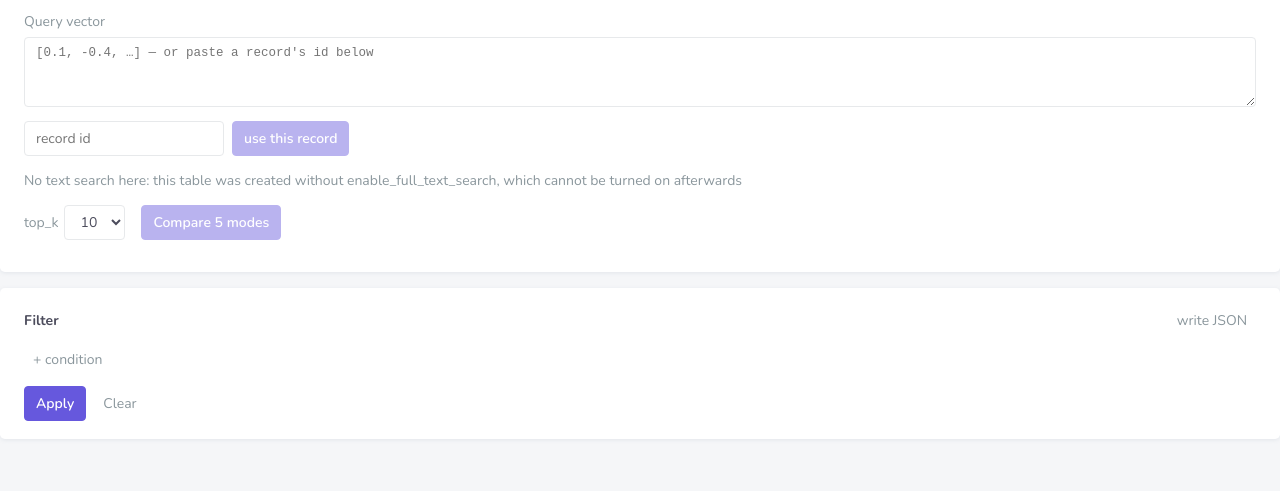
the search inspector › warns about a wrong-length vector but still lets it be sent
The width and height of the screenshot is (1280, 491).
Click the text box labelled "Query vector" at (640, 72), box [24,37,1256,107]
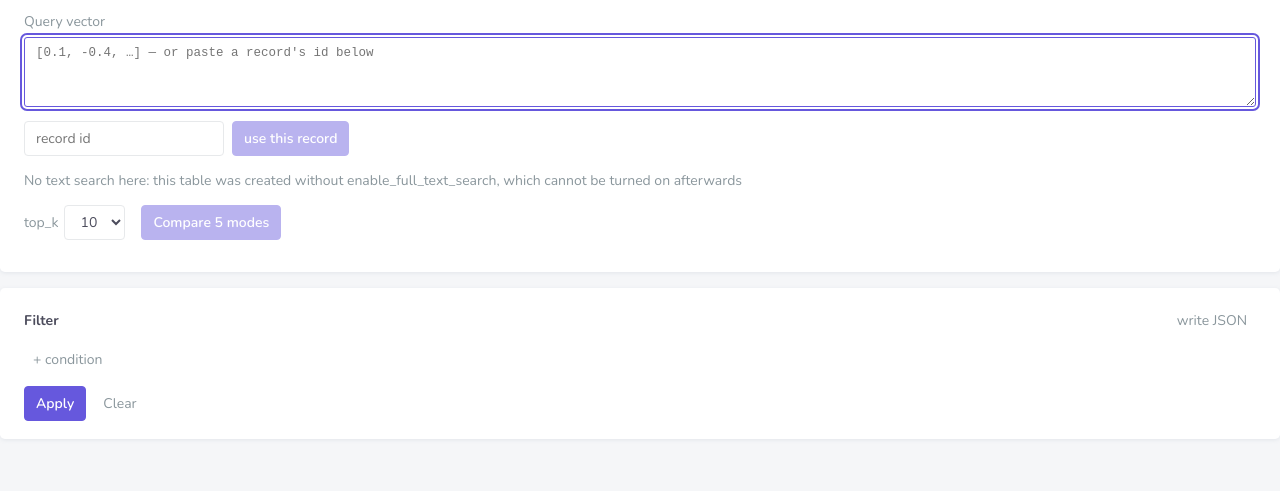
Type keys "[1, 0]"
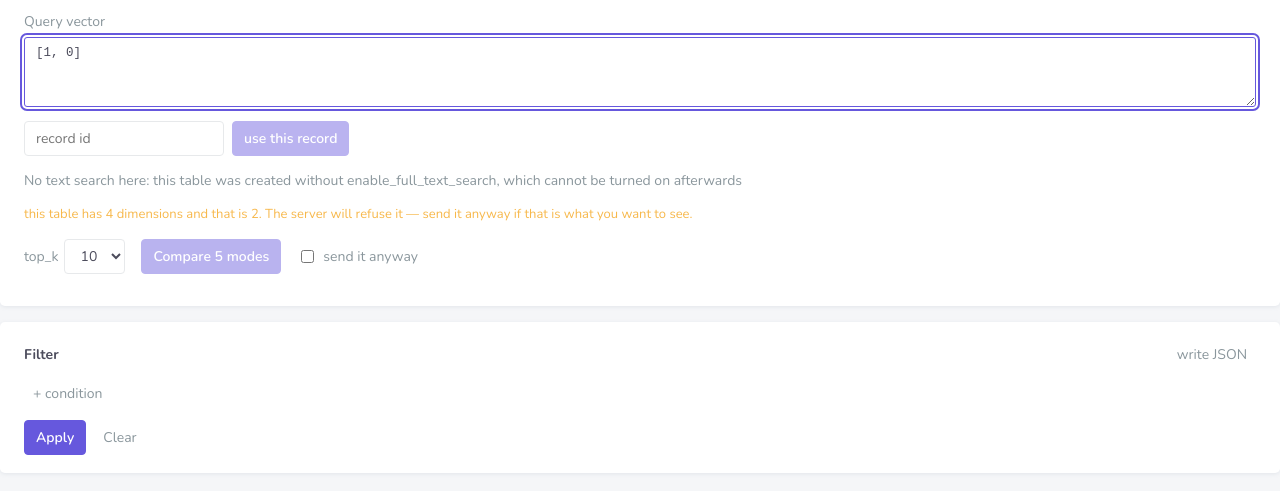
Check: the button "Compare 5 modes" is disabled, box [142,239,281,274]
Check: the text "this table has 4 dimensions and that is 2" is shown, box [24,205,259,223]
Note: Seeing the server's own DIMENSION_MISMATCH is sometimes the point of being here.
Click the checkbox labelled "send it anyway" at (308, 256), box [301,250,314,263]
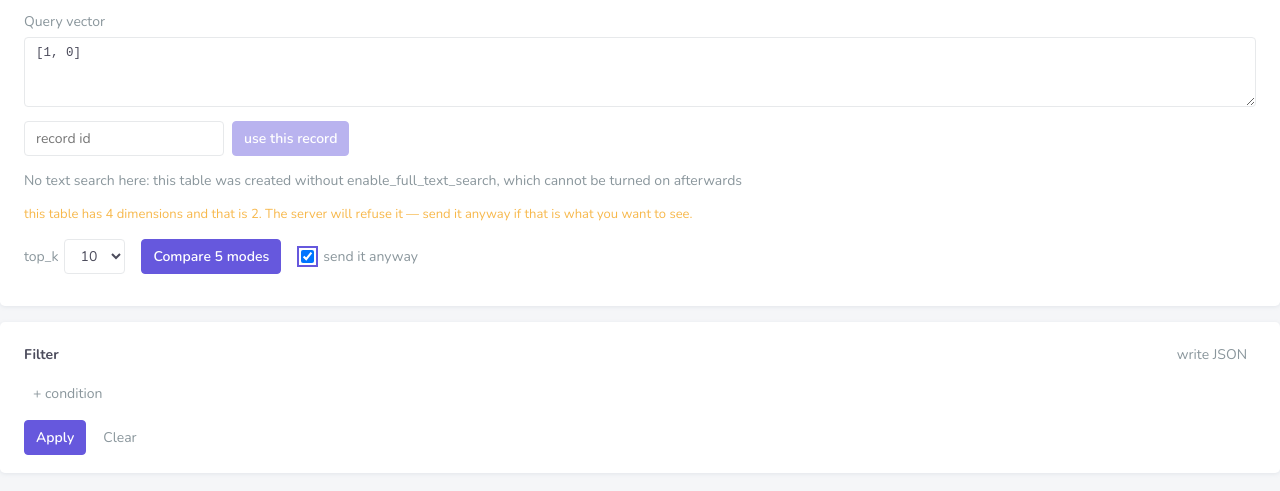
Check: the button "Compare 5 modes" is enabled, box [142,239,281,274]
